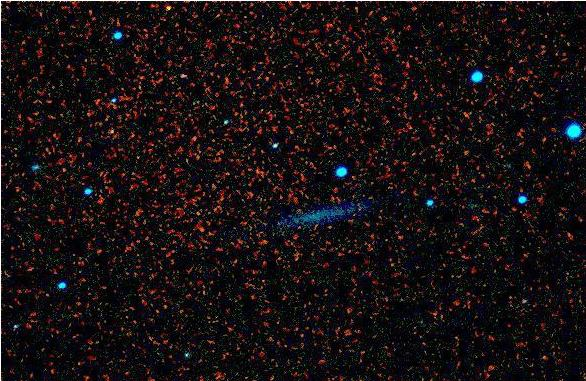star: (151, 0, 181, 23)
